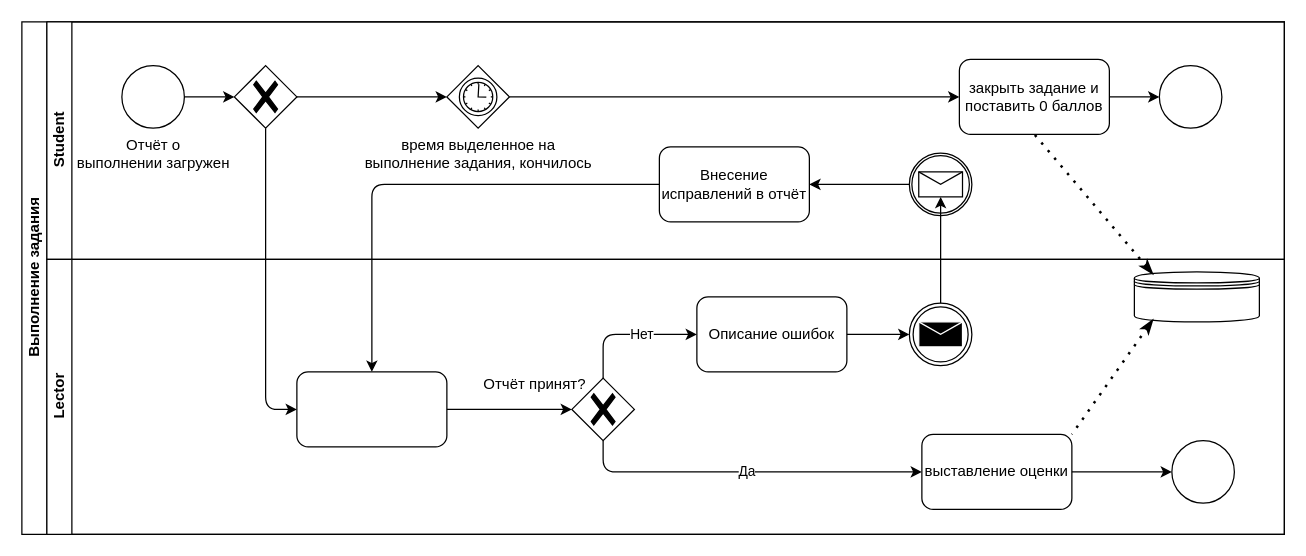
This 1306x556 diagram has some shape labels left out. Here are the shapes that lost their labels. From the top down, the centre of each, then its label:
the point at 940,184: Получение оценки
the point at 1196,296: база выполненых заданий
the point at 940,334: Отправка оценки
the point at 371,409: проверка отчёта
